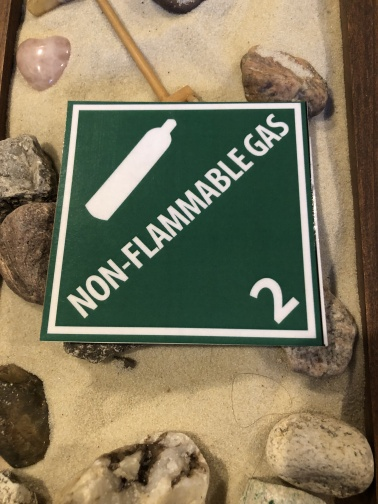NonFlammableGas: (40, 101, 330, 345)
